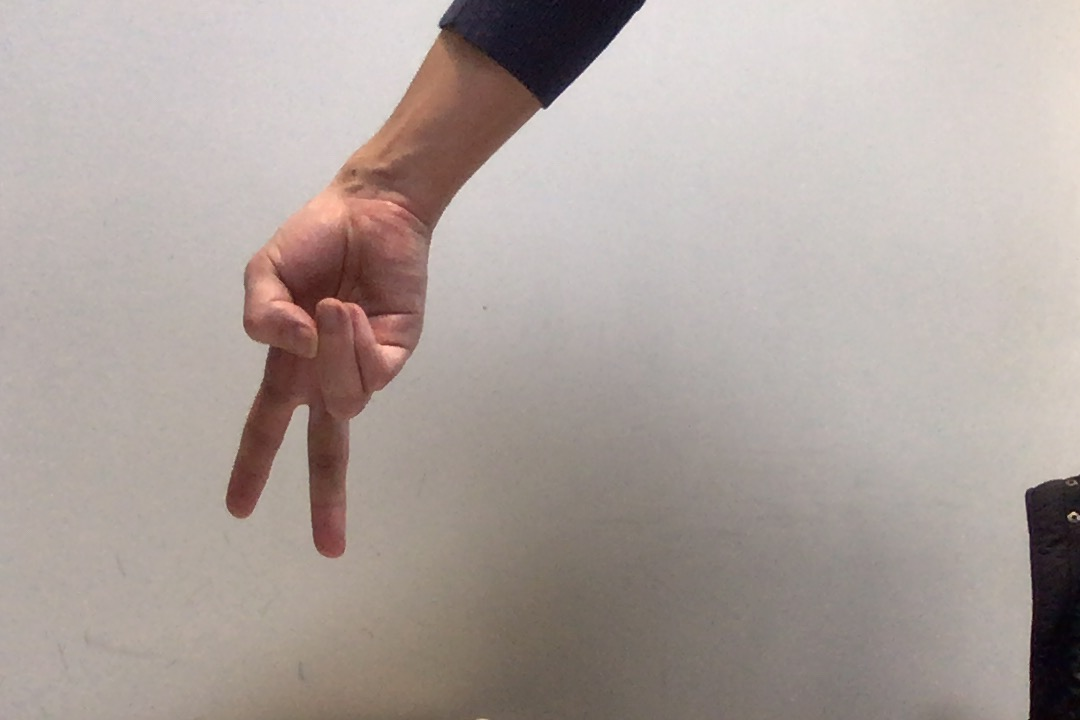peacesign: (219, 197, 432, 562)
